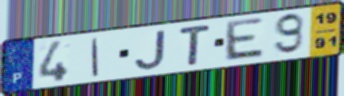4: (37, 39, 71, 83)
9: (270, 13, 306, 57)
E: (222, 16, 267, 62)
I: (90, 37, 100, 78)
J: (133, 28, 169, 71)
T: (178, 23, 213, 67)
